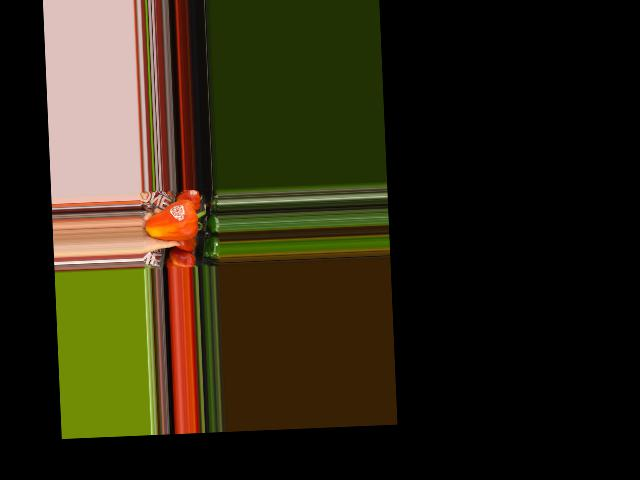bell_pepper: (145, 197, 208, 246)
